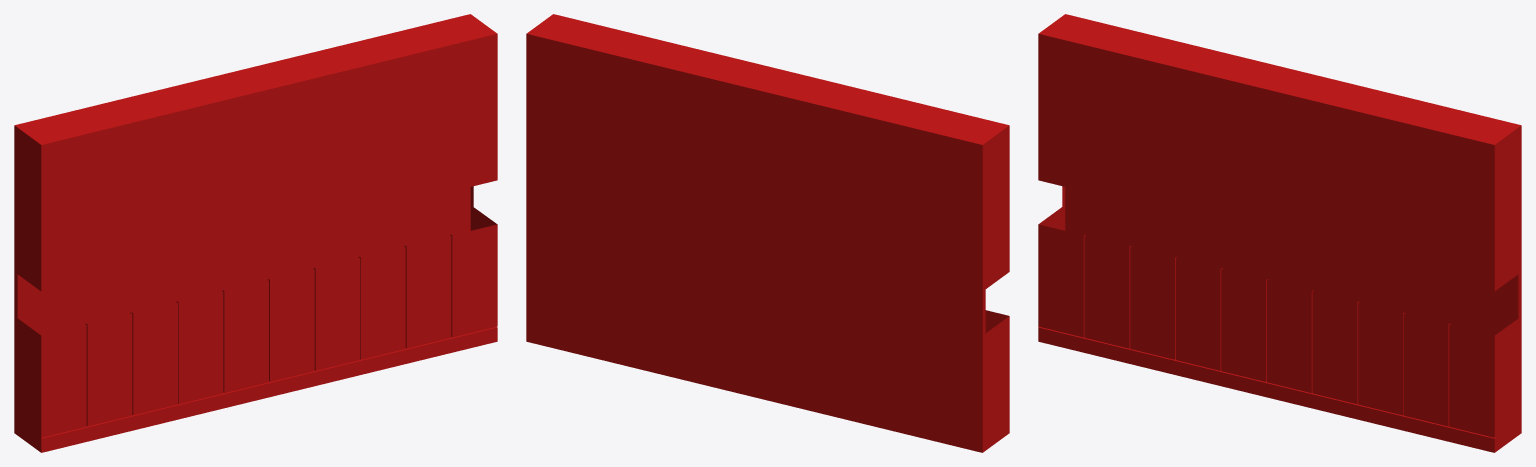
Rendered from Counter_8_Exhibition_No_Group_Cabinet_End_1.FBX.
The picture shows the model from 3 angles, left to right: view 1: azimuth 30°, elevation 25°; view 2: azimuth 150°, elevation 25°; view 3: azimuth 330°, elevation 25°; orthographic projection.
Parts seen in each view (by area): view 1: Counter_8_Exhibition_No_Group_Cabinet_End_1; view 2: Counter_8_Exhibition_No_Group_Cabinet_End_1; view 3: Counter_8_Exhibition_No_Group_Cabinet_End_1.
Part boxes in pixels (x1,y1,x2,y2): Counter_8_Exhibition_No_Group_Cabinet_End_1: [14, 14, 497, 452]; Counter_8_Exhibition_No_Group_Cabinet_End_1: [526, 14, 1009, 452]; Counter_8_Exhibition_No_Group_Cabinet_End_1: [1038, 14, 1521, 452].
Bounding box in the file's own units: 488 × 315 × 50.
